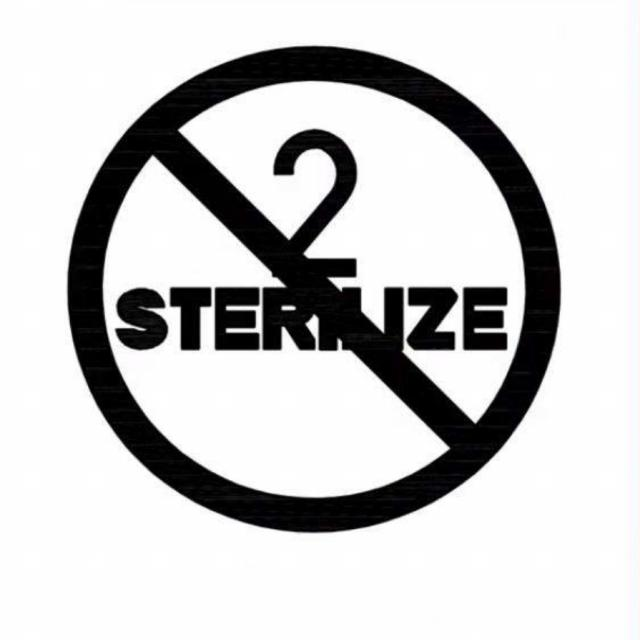Do not resterilize: (64, 43, 566, 534)
